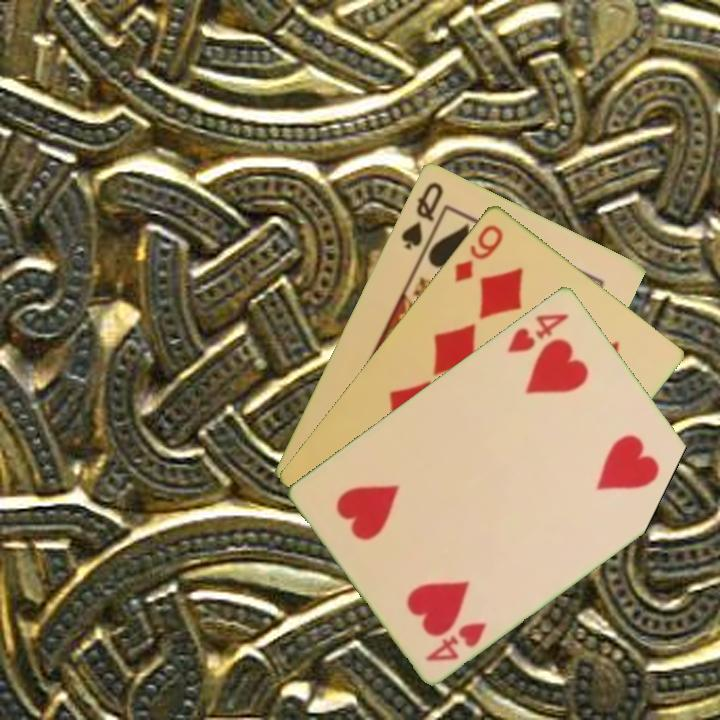4h: (503, 309, 573, 356), (422, 618, 490, 664)
9d: (450, 220, 507, 285)
Qs: (397, 178, 446, 252)
